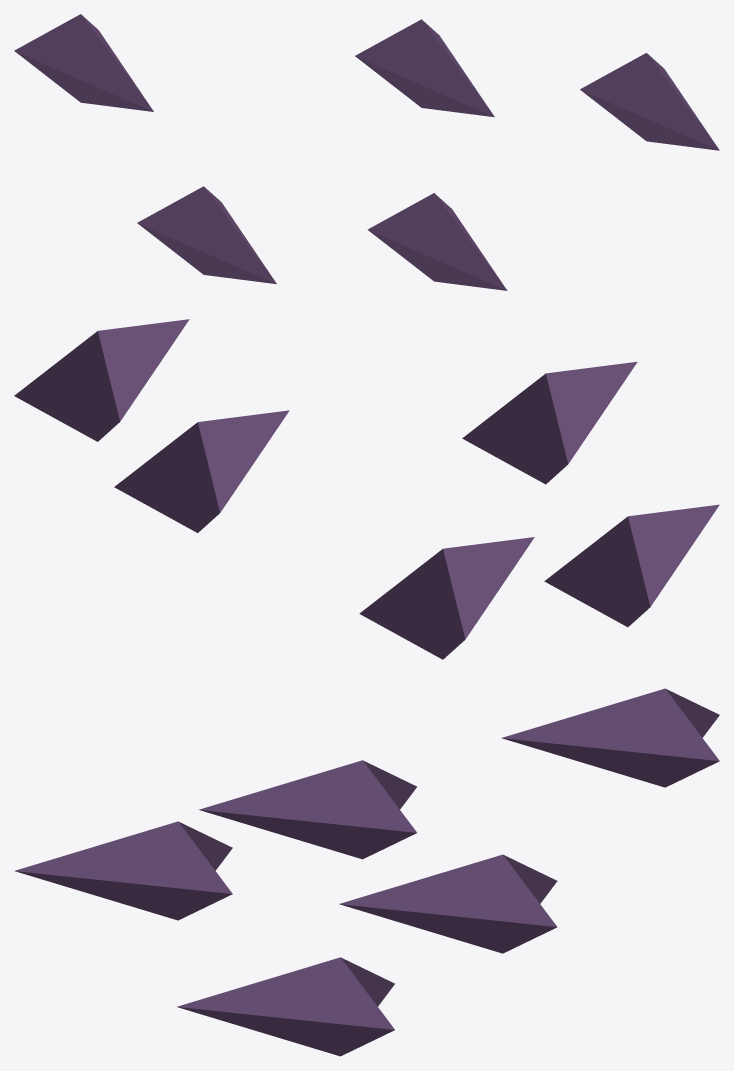
The model's file is BlackBronzeArrowheadStack5.glb.
3 views of the same model, one above another, from view 1: azimuth 30°, elevation 25°; view 2: azimuth 150°, elevation 25°; view 3: azimuth 270°, elevation 25° (orthographic). The views are drawn at different scales.
Visible parts, largest first — view 1: BlackBronzeArrowheadStack5; view 2: BlackBronzeArrowheadStack5; view 3: BlackBronzeArrowheadStack5.
Part boxes in pixels (x1=…): BlackBronzeArrowheadStack5: x1=14, y1=14, x2=719, y2=290; BlackBronzeArrowheadStack5: x1=14, y1=319, x2=719, y2=659; BlackBronzeArrowheadStack5: x1=15, y1=688, x2=719, y2=1056.
Bounding box in the file's own units: 0.3089 × 0.0906 × 0.3261.
